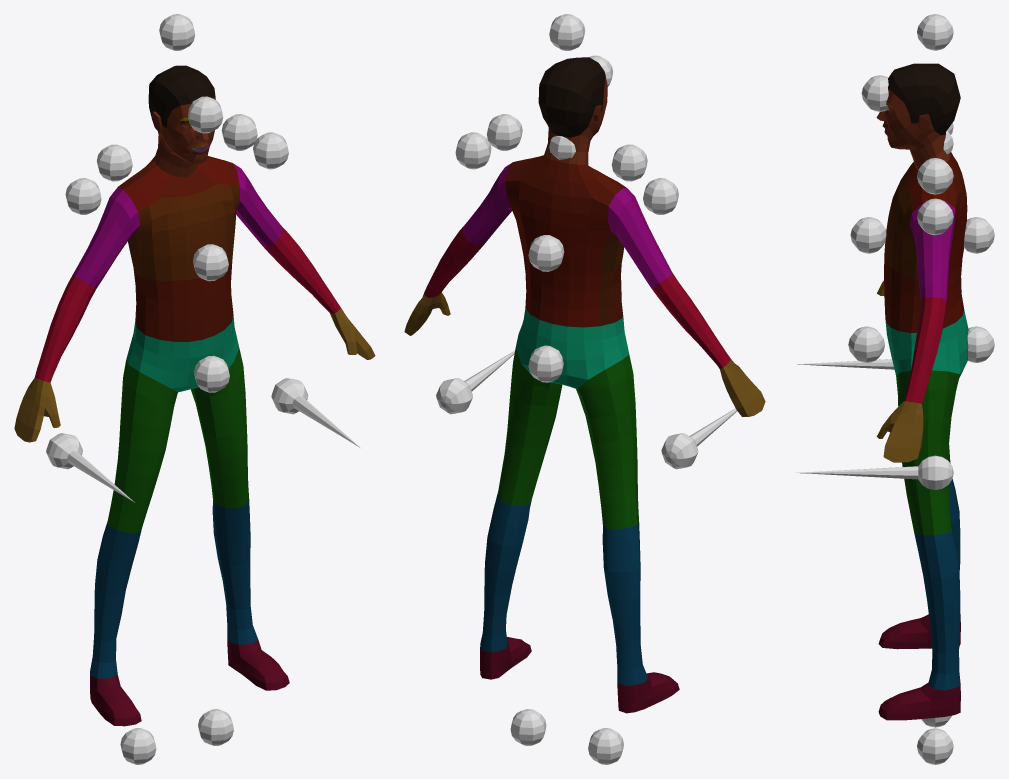
The model's file is LayeredClothingTemplate.fbx.
3 views of the same model, side by side, from view 1: azimuth 30°, elevation 25°; view 2: azimuth 150°, elevation 25°; view 3: azimuth 270°, elevation 25° (orthographic).
Visible parts, largest first — view 1: NameHere_InnerCage, LeftGrip_Att, RightGrip_Att, RightCollar_Att, RightShoulder_Att, LeftCollar_Att, RightFoot_Att, LeftShoulder_Att, BodyFront_Att, LeftFoot_Att, WaistFront_Att, Hair_Att (+1 smaller); view 2: NameHere_InnerCage, LeftGrip_Att, RightGrip_Att, LeftShoulder_Att, RightCollar_Att, Hair_Att, LeftCollar_Att, LeftFoot_Att, RightShoulder_Att, BodyBack_Att, RightFoot_Att, WaistBack_Att; view 3: NameHere_InnerCage, LeftGrip_Att, Hair_Att, LeftFoot_Att, LeftCollar_Att, WaistFront_Att, LeftShoulder_Att, BodyFront_Att, BodyBack_Att, WaistBack_Att, FaceFront_Att, RightGrip_Att.
Part boxes in pixels (left/top/right/bottom): NameHere_InnerCage: left=14, top=65, right=375, bottom=726; LeftGrip_Att: left=271, top=378, right=360, bottom=447; RightGrip_Att: left=46, top=433, right=134, bottom=502; RightCollar_Att: left=97, top=144, right=132, bottom=181; RightShoulder_Att: left=65, top=178, right=101, bottom=214; LeftCollar_Att: left=221, top=114, right=257, bottom=150; RightFoot_Att: left=120, top=728, right=156, bottom=764; LeftShoulder_Att: left=253, top=132, right=288, bottom=169; BodyFront_Att: left=193, top=244, right=228, bottom=281; LeftFoot_Att: left=198, top=709, right=233, bottom=745; WaistFront_Att: left=194, top=355, right=229, bottom=392; Hair_Att: left=159, top=14, right=195, bottom=50; NameHere_InnerCage: left=404, top=57, right=765, bottom=713; LeftGrip_Att: left=436, top=350, right=514, bottom=414; RightGrip_Att: left=661, top=408, right=736, bottom=469; LeftShoulder_Att: left=455, top=132, right=491, bottom=169; RightCollar_Att: left=611, top=144, right=647, bottom=181; Hair_Att: left=549, top=14, right=585, bottom=50; LeftCollar_Att: left=486, top=114, right=522, bottom=150; LeftFoot_Att: left=510, top=709, right=546, bottom=745; RightShoulder_Att: left=643, top=178, right=678, bottom=214; BodyBack_Att: left=528, top=235, right=564, bottom=271; RightFoot_Att: left=588, top=728, right=623, bottom=764; WaistBack_Att: left=528, top=345, right=563, bottom=382; NameHere_InnerCage: left=876, top=63, right=968, bottom=720; LeftGrip_Att: left=795, top=455, right=953, bottom=489; Hair_Att: left=917, top=14, right=953, bottom=50; LeftFoot_Att: left=917, top=728, right=953, bottom=764; LeftCollar_Att: left=917, top=158, right=953, bottom=194; WaistFront_Att: left=848, top=326, right=884, bottom=362; LeftShoulder_Att: left=917, top=198, right=953, bottom=235; BodyFront_Att: left=850, top=217, right=886, bottom=253; BodyBack_Att: left=963, top=217, right=994, bottom=253; WaistBack_Att: left=967, top=326, right=994, bottom=362; FaceFront_Att: left=861, top=75, right=888, bottom=111; RightGrip_Att: left=797, top=359, right=894, bottom=369.
Size of the model in its own units: 3.23 by 6.55 by 1.63.
